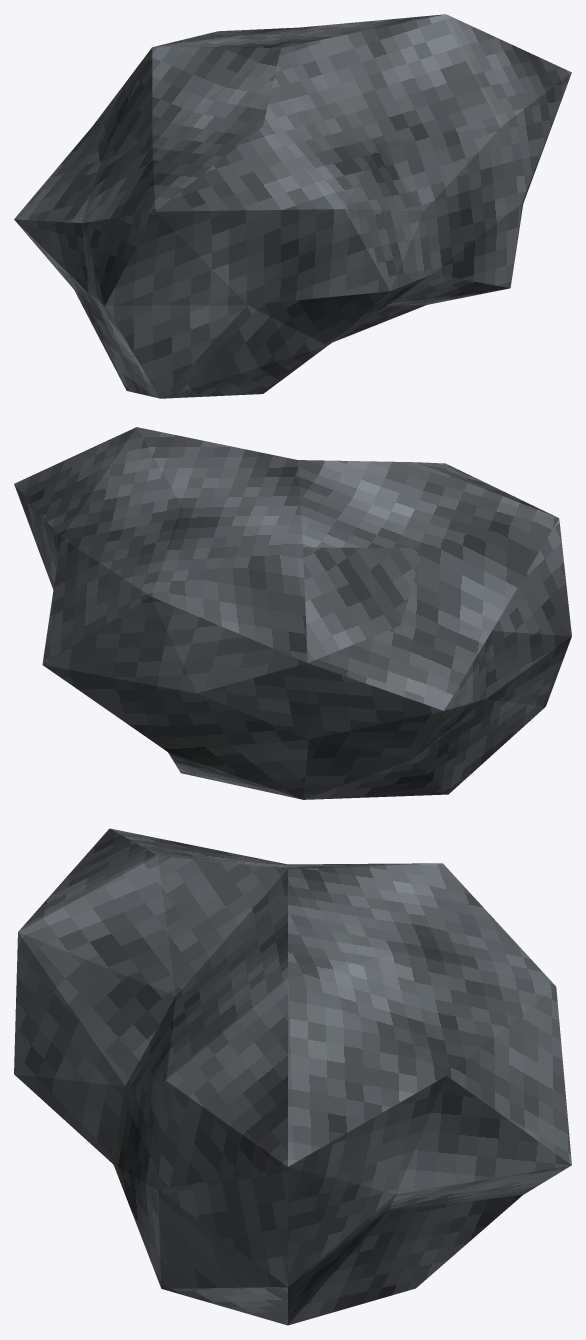
The model's file is Astreroid_10.fbx.
3 views of the same model, one above another, from view 1: azimuth 30°, elevation 25°; view 2: azimuth 150°, elevation 25°; view 3: azimuth 270°, elevation 25° (orthographic). The views are drawn at different scales.
Parts seen in each view (by area): view 1: Asteroid_LowPoly; view 2: Asteroid_LowPoly; view 3: Asteroid_LowPoly.
Boxes of the visible parts, x1,y1,x2,y2 form: Asteroid_LowPoly: (14,14,571,398); Asteroid_LowPoly: (14,427,571,799); Asteroid_LowPoly: (14,828,571,1325).
Bounding box in the file's own units: 539 × 312 × 400.
